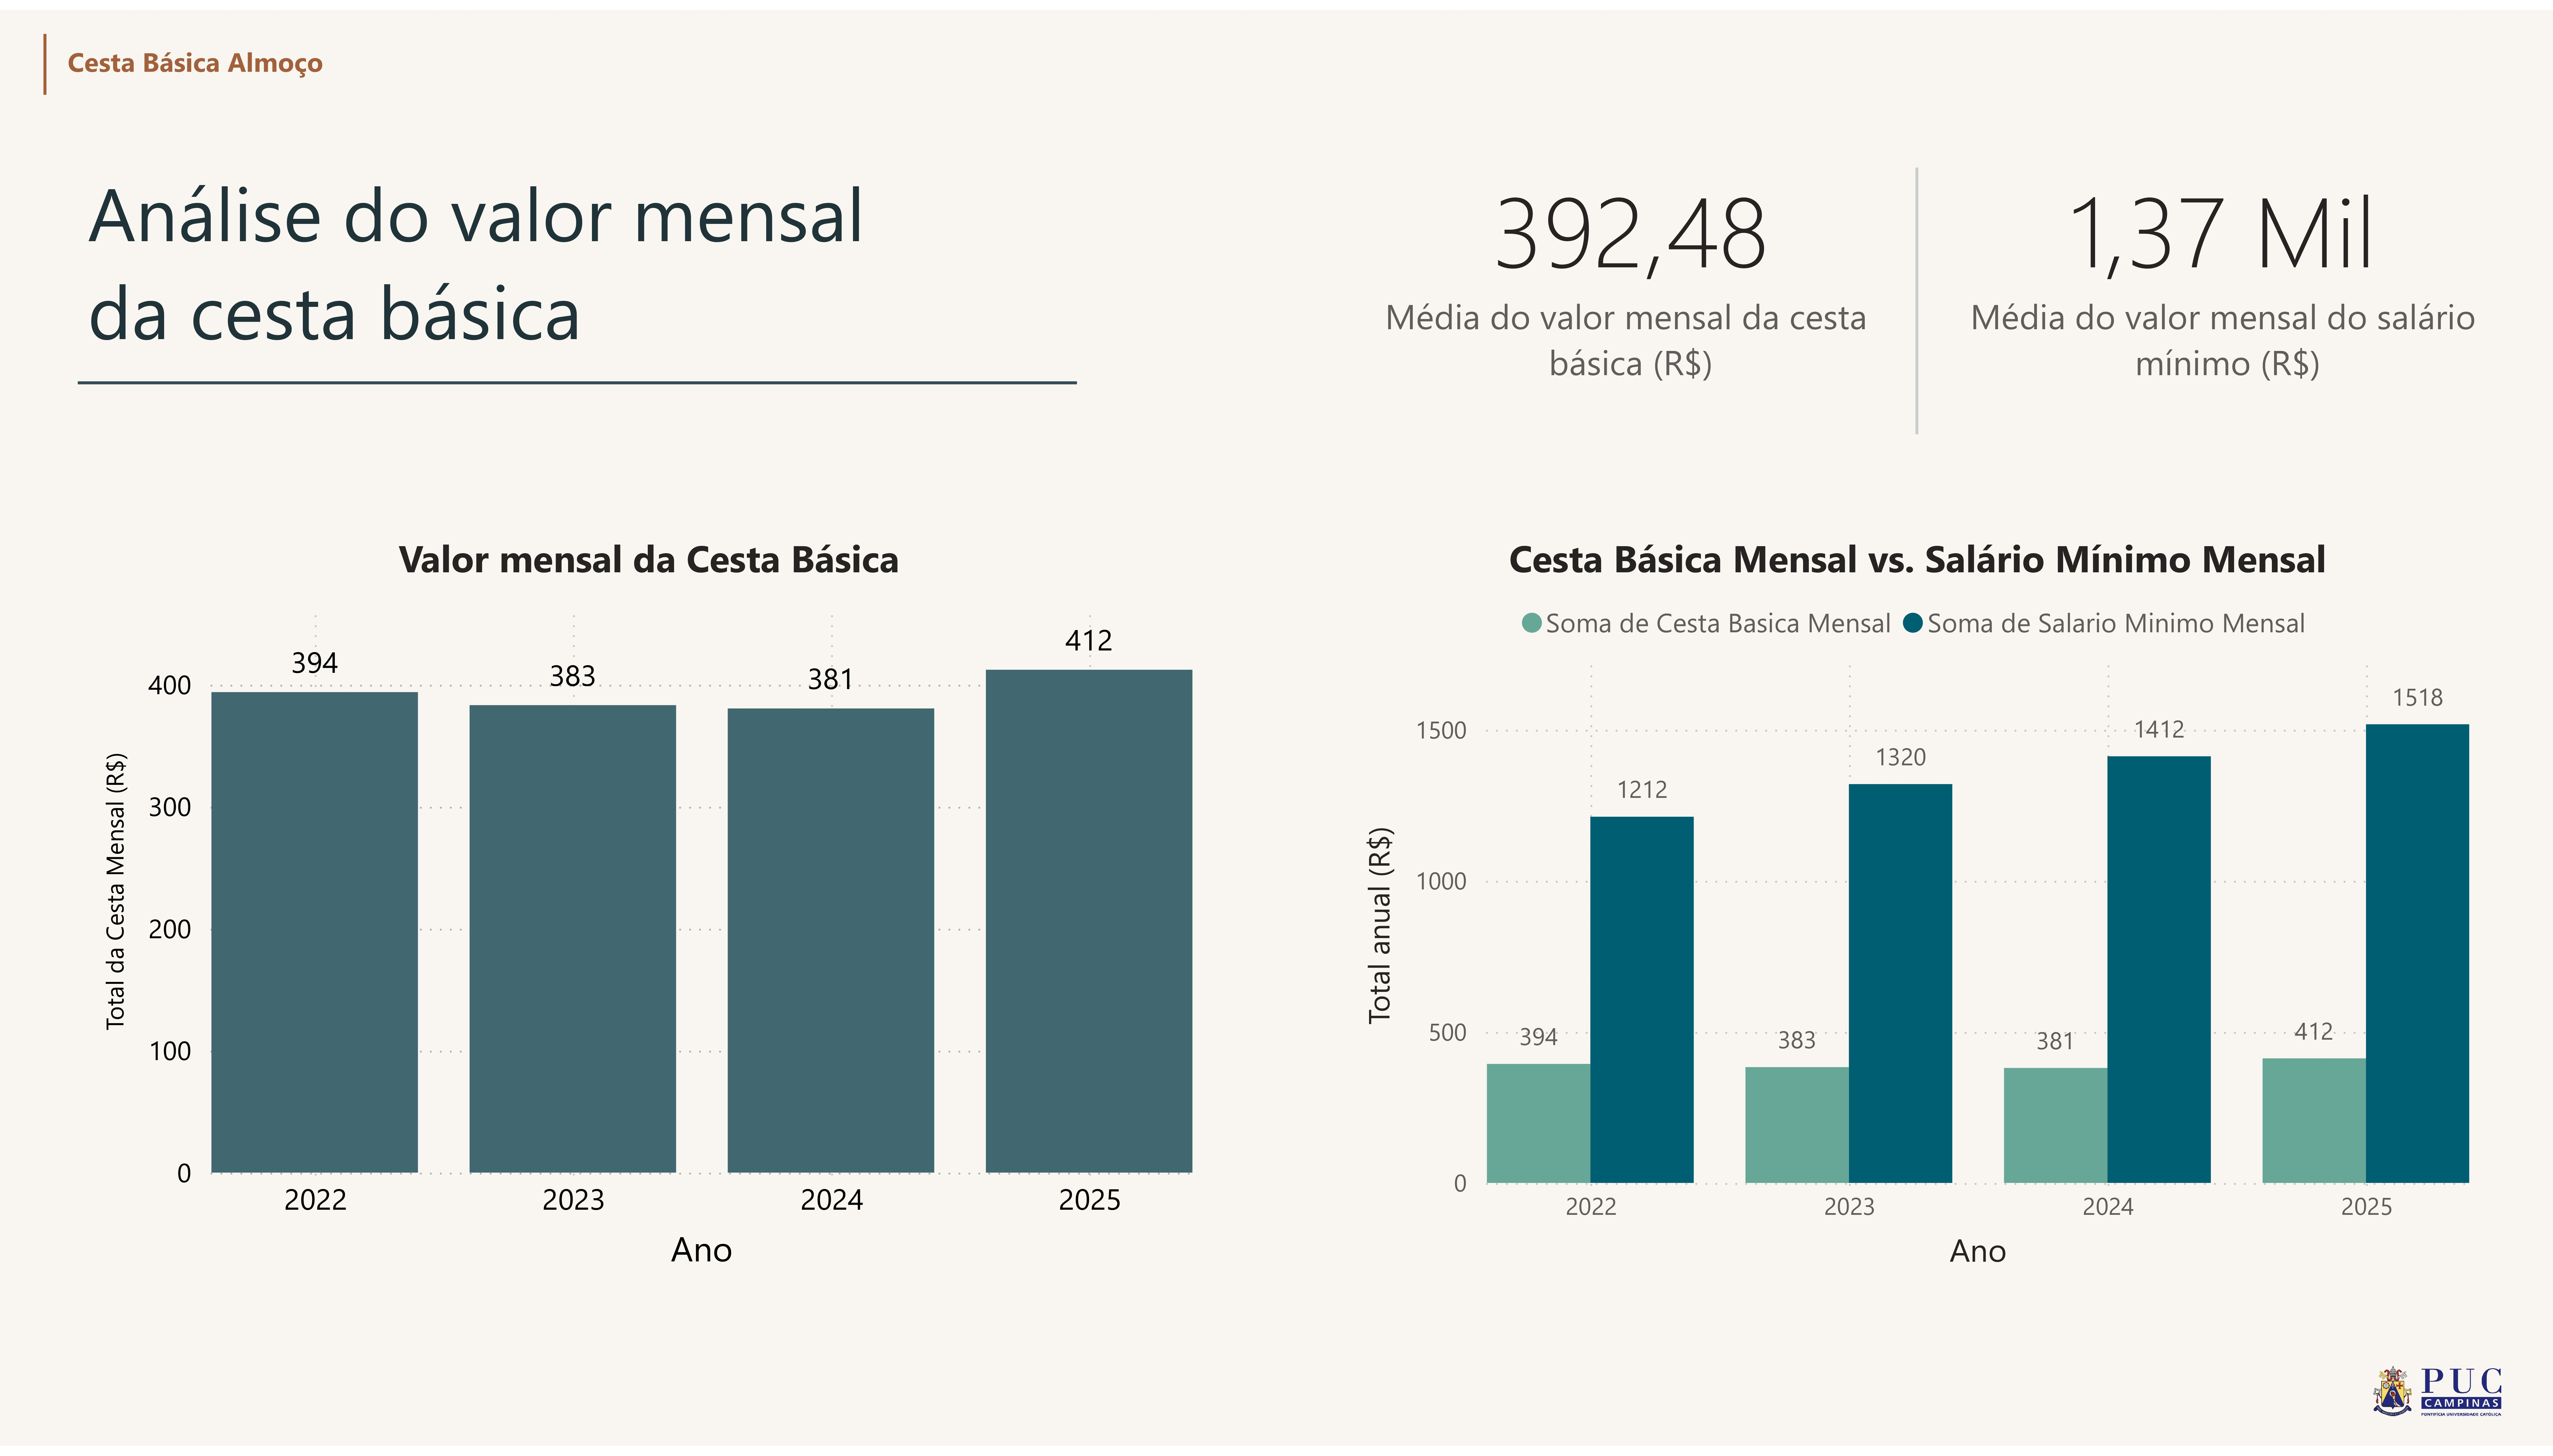

What the dashboard file says about the page in this screenshot:
{"tool":"powerbi","page":{"name":"Análise 1","canvas":[1280,720],"ordinal":0},"visuals":[{"type":"textbox","box":[29.3,11.7,147.6,30.5],"z":0,"group":"g1"},{"type":"textbox","box":[38.6,70.9,563.8,124.8],"z":0},{"type":"shape","box":[16.2,11.7,13.1,30.5],"z":1000,"group":"g1"},{"type":"card","fields":{"Values":["Avg(SalarioCesta.CestaBasicaMensal)"]},"box":[673.3,26.9,289.3,185.9],"z":1000},{"type":"clusteredColumnChart","title":"Valor mensal da Cesta Básica ","fields":{"Category":["MediaCestaAnual.Ano"],"Y":["Sum(SalarioCesta.CestaBasicaMensal)"]},"box":[47.6,261.9,554.8,374.5],"z":2000},{"type":"clusteredColumnChart","title":"Cesta Básica Mensal vs. Salário Mínimo Mensal","fields":{"Y":["Sum(SalarioCesta.CestaBasicaMensal)","Sum(SalarioCesta.SalarioMensal)"],"Category":["SalarioCesta.Ano"]},"box":[680.3,261.9,563.1,374.5],"z":3000},{"type":"card","fields":{"Values":["Avg(SalarioCesta.SalarioMensal)"]},"box":[969.9,27,289.1,185.8],"z":4000},{"type":"shape","box":[38.6,112.2,500.9,149.9],"z":5000},{"type":"shape","box":[931.3,79.1,60.1,133.8],"z":6000},{"type":"image","box":[1185,675.1,73.6,35],"z":7000},{"type":"group","id":"g1","title":"Grupo 1","box":[16.2,11.7,160.7,30.5],"z":8000}]}

Visuals, with their boxes in screenshot pixels (x1, y1, x2, y2), scaled from the page's 1280x720 canvas onto the 2553x1456 screenshot:
textbox: 58,24,353,85
textbox: 77,143,1202,396
shape: 32,24,58,85
card - Avg(SalarioCesta.CestaBasicaMensal): 1343,55,1920,430
"Valor mensal da Cesta Básica " clusteredColumnChart: 95,530,1202,1287
"Cesta Básica Mensal vs. Salário Mínimo Mensal" clusteredColumnChart: 1357,530,2480,1287
card - Avg(SalarioCesta.SalarioMensal): 1935,55,2511,430
shape: 77,227,1076,530
shape: 1858,160,1977,431
image: 2363,1365,2510,1436
"Grupo 1" group: 32,24,353,85
